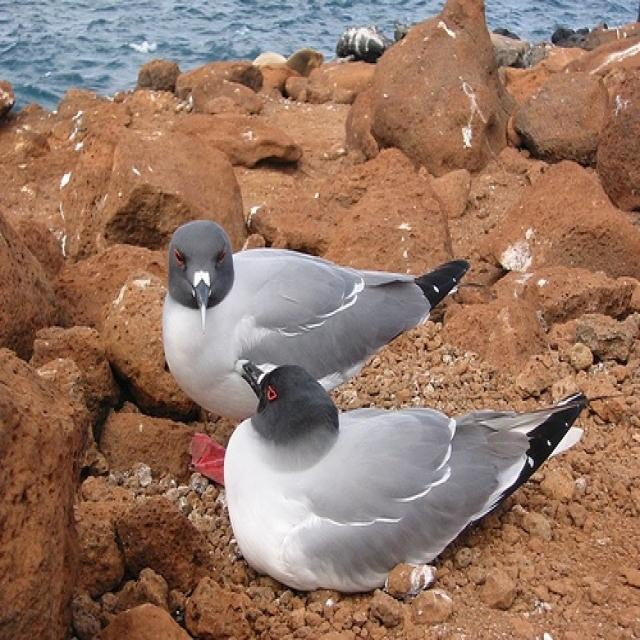bird: (224, 356, 589, 593), (164, 219, 465, 484)
